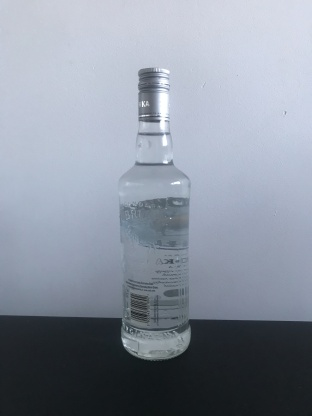nakretka: (136, 65, 171, 122)
